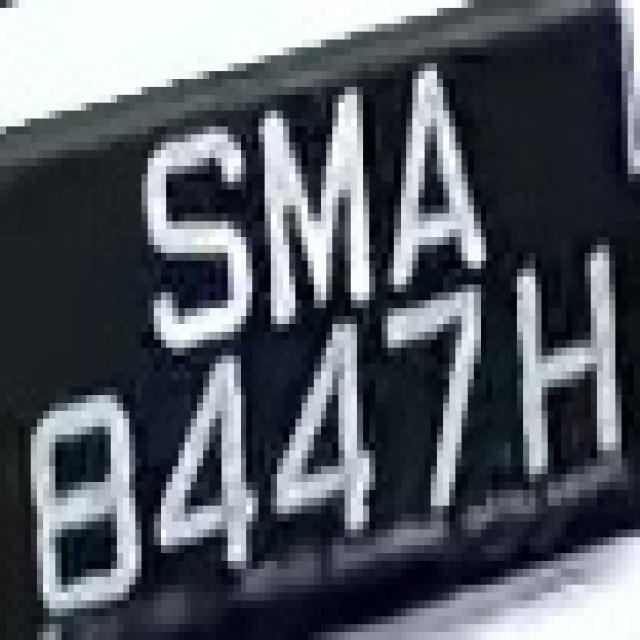4: (123, 324, 277, 593), (246, 316, 394, 577)
7: (363, 292, 486, 530)
8: (31, 387, 154, 601)
A: (345, 32, 492, 324)
H: (492, 253, 628, 498)
M: (234, 79, 388, 348)
S: (123, 110, 259, 340)
